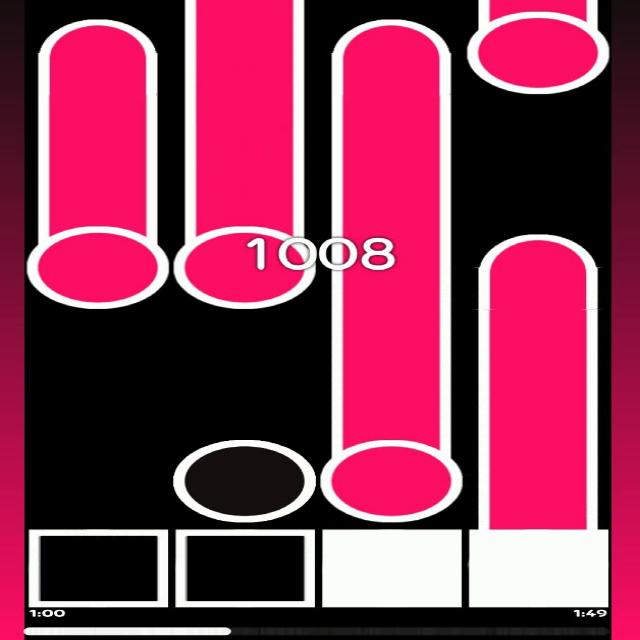end_hold: (32, 7, 163, 64), (326, 8, 457, 64), (475, 221, 601, 277)
note: (172, 437, 317, 522)
start_hold: (28, 202, 170, 310), (322, 417, 462, 522), (175, 208, 316, 312), (469, 3, 607, 94)
